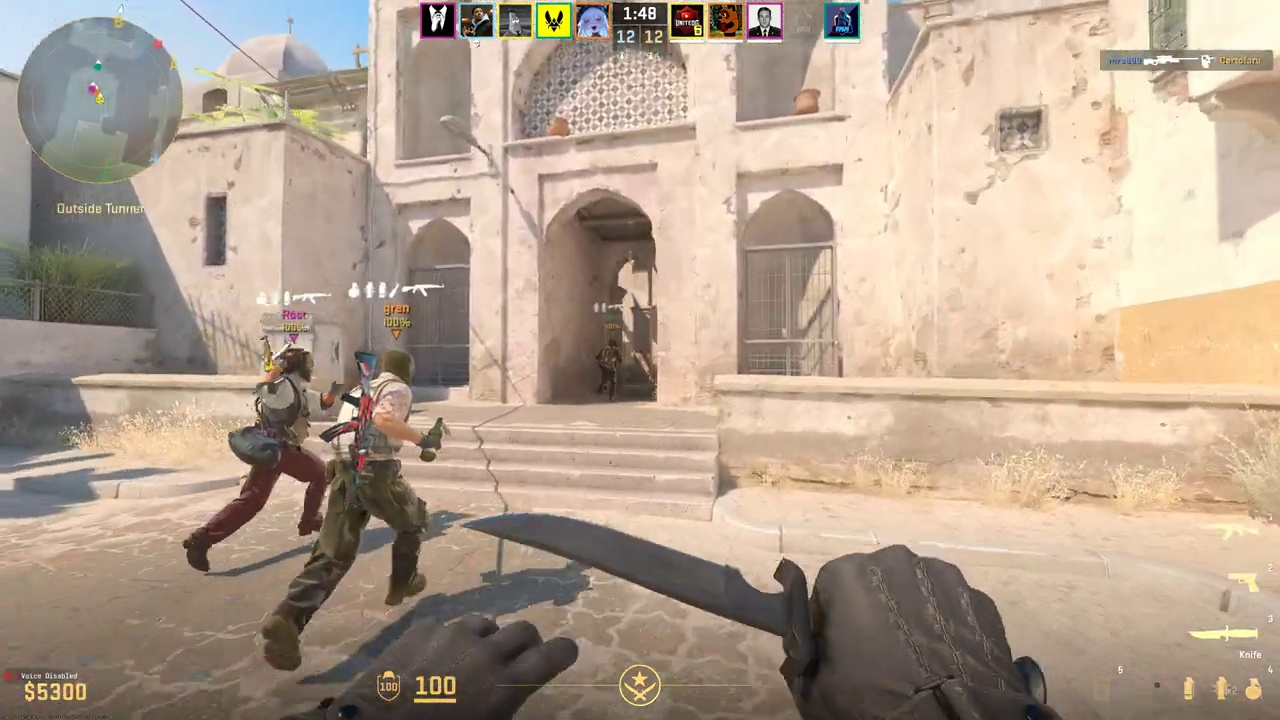Terrorist: (310, 349, 444, 619), (193, 347, 325, 567), (598, 338, 622, 400)
